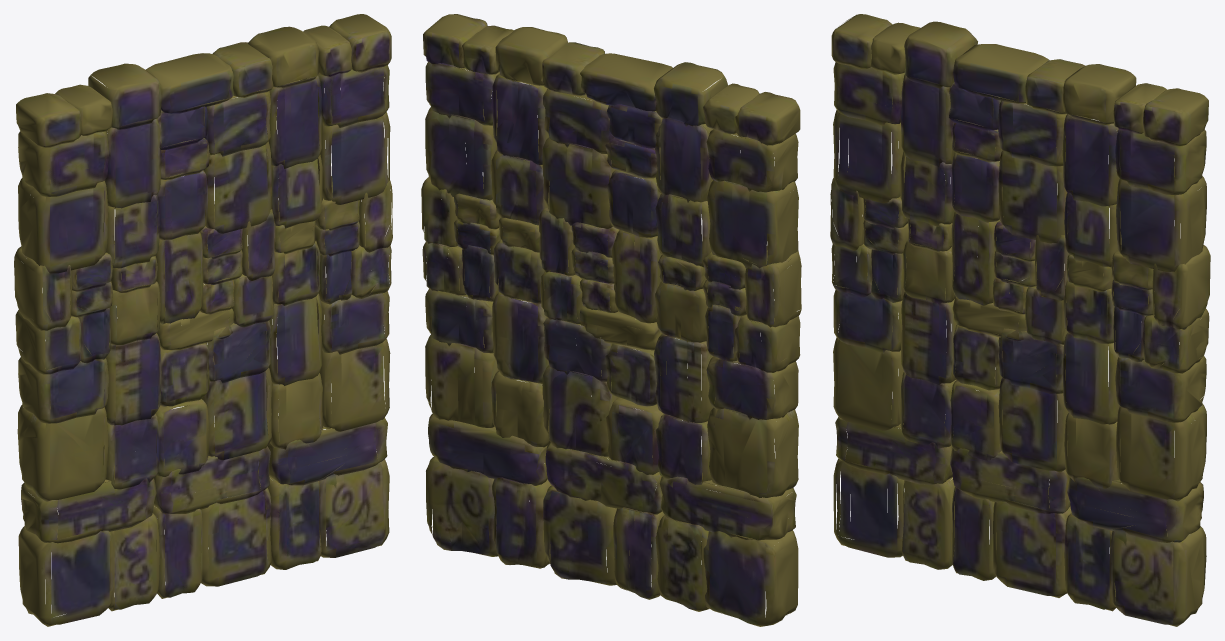
The model's file is breakablelWallInside_LowPolyCompressed.glb.
3 views of the same model, side by side, from view 1: azimuth 30°, elevation 25°; view 2: azimuth 150°, elevation 25°; view 3: azimuth 330°, elevation 25° (orthographic).
Parts seen in each view (by area): view 1: Mesh_0.004; view 2: Mesh_0.004; view 3: Mesh_0.004.
Part boxes in pixels (x1,y1,x2,y2): Mesh_0.004: (14,14,392,626); Mesh_0.004: (421,14,801,626); Mesh_0.004: (830,14,1210,626).
Size of the model in its own units: 1.25 by 1.75 by 0.1685.
Materials: 1 (1 with a texture image).
